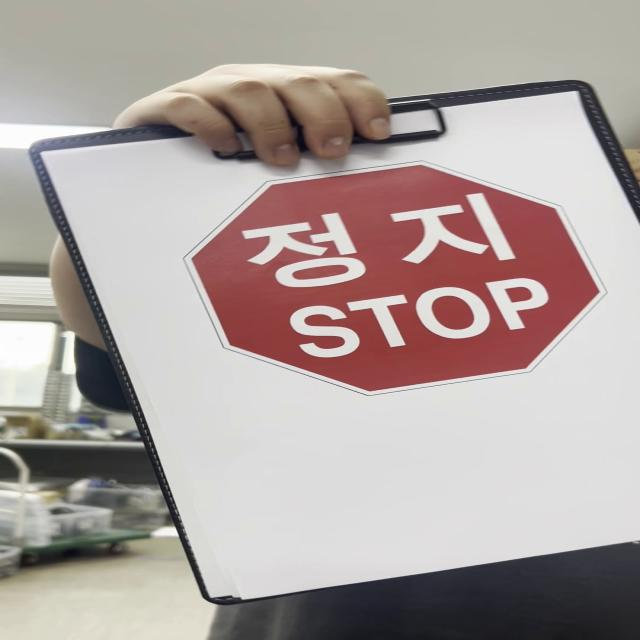stop: (188, 162, 606, 398)
